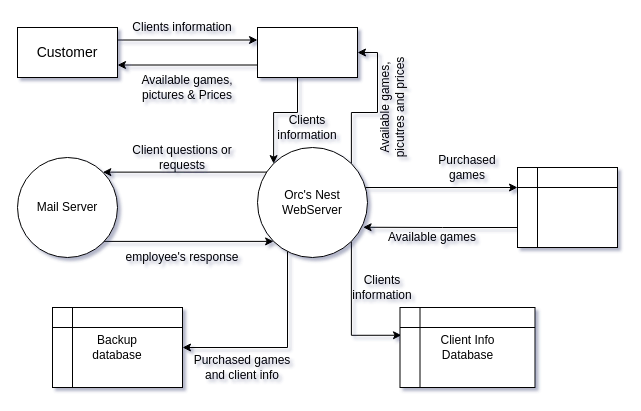
Image size: 641x411. Some labels were removed from this diagram. Here are the shapes that lost their labels. From the top down, the centre of each, then its label:
[307,52]: Website
[567,207]: Game Database
